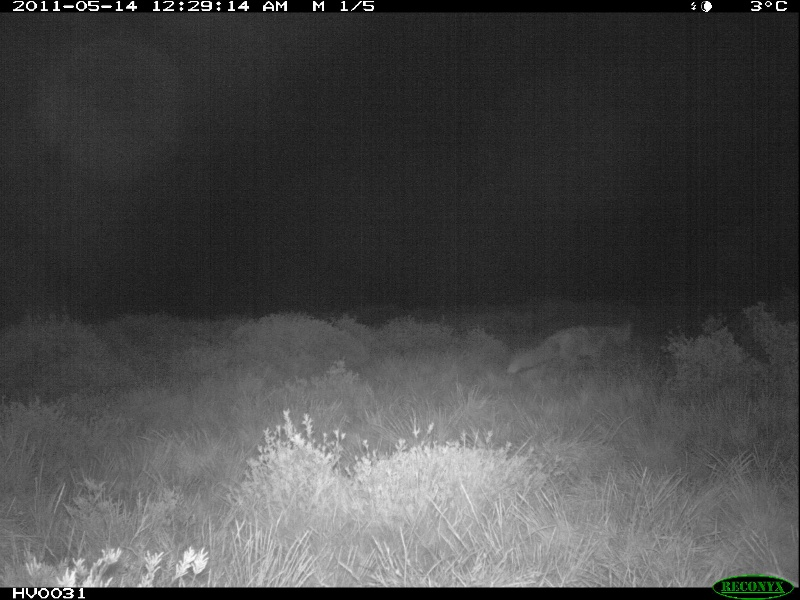fox: (506, 319, 639, 386)
